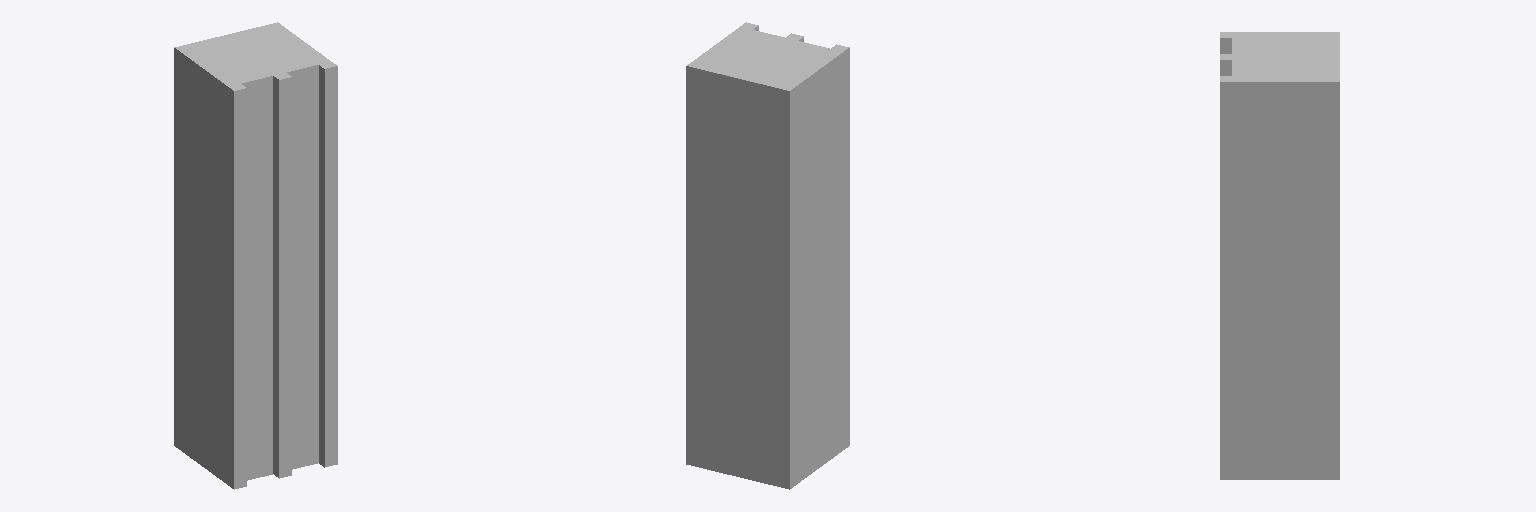
The picture shows the model from 3 angles: view 1: azimuth 30°, elevation 25°; view 2: azimuth 150°, elevation 25°; view 3: azimuth 270°, elevation 25°; orthographic projection.
Parts seen in each view (by area): view 1: building_windows_high_middle; view 2: building_windows_high_middle; view 3: building_windows_high_middle.
Part boxes in pixels (x1,y1,x2,y2): building_windows_high_middle: (174,22,337,489); building_windows_high_middle: (686,22,849,489); building_windows_high_middle: (1220,32,1339,479).
Bounding box in the file's own units: 1 × 3.68 × 1.